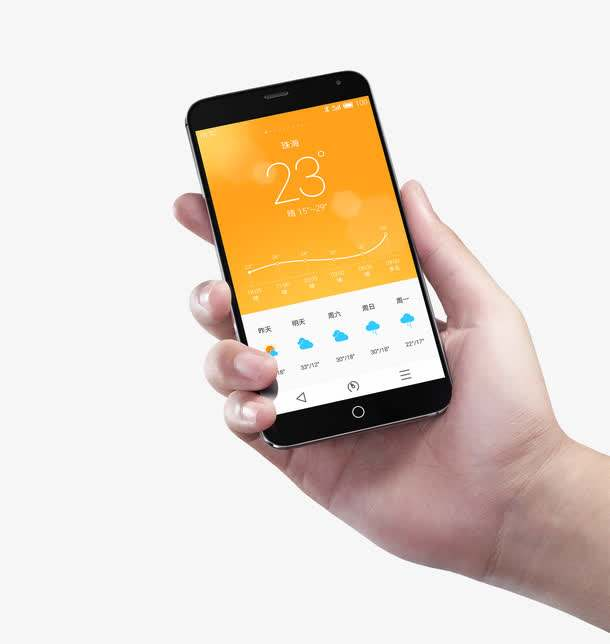phone: (163, 66, 551, 584)
